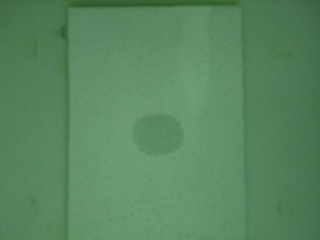Water_detected: (128, 124, 184, 162)
